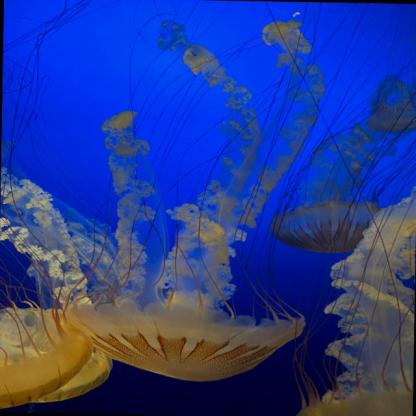jellyfish: (63, 302, 306, 384), (0, 306, 94, 411), (0, 345, 112, 404), (269, 200, 387, 254), (294, 388, 413, 415), (370, 109, 416, 134)
